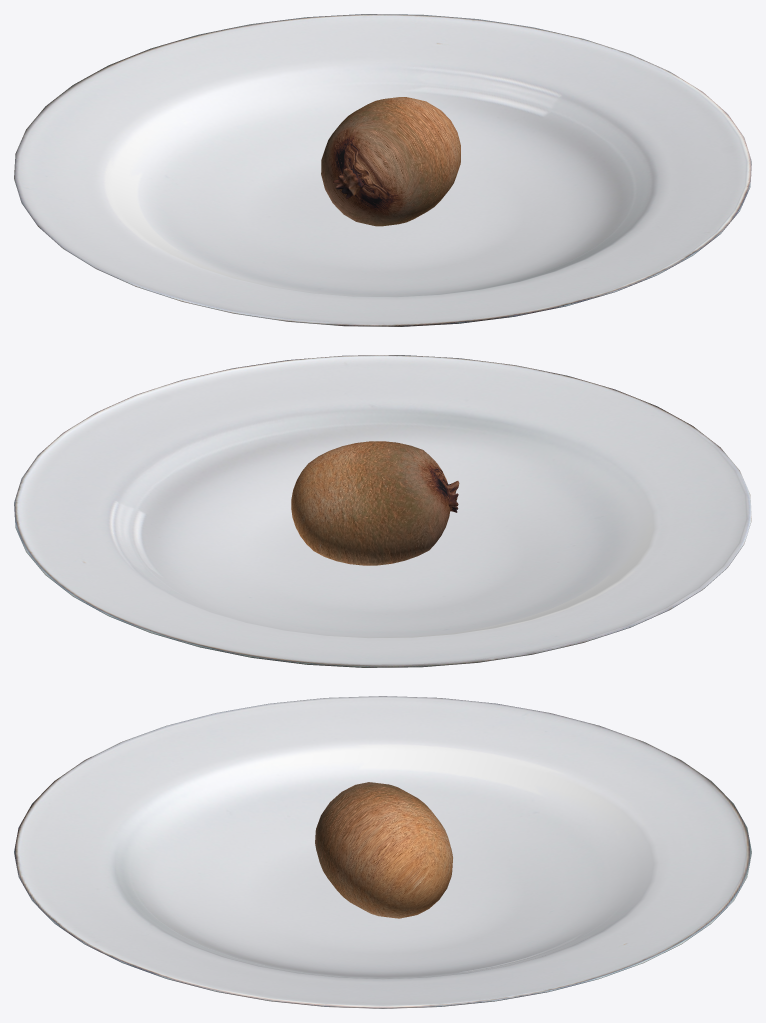
Rendered from kiwi.fbx.
The picture shows the model from 3 angles, top to bottom: view 1: azimuth 30°, elevation 25°; view 2: azimuth 150°, elevation 25°; view 3: azimuth 270°, elevation 25°; orthographic projection.
Parts seen in each view (by area): view 1: polySurface3; view 2: polySurface3; view 3: polySurface3.
Part boxes in pixels (x1,y1,x2,y2): polySurface3: [14, 14, 751, 326]; polySurface3: [14, 355, 751, 667]; polySurface3: [14, 696, 751, 1008].
Size of the model in its own units: 21.38 by 3.58 by 21.38.
